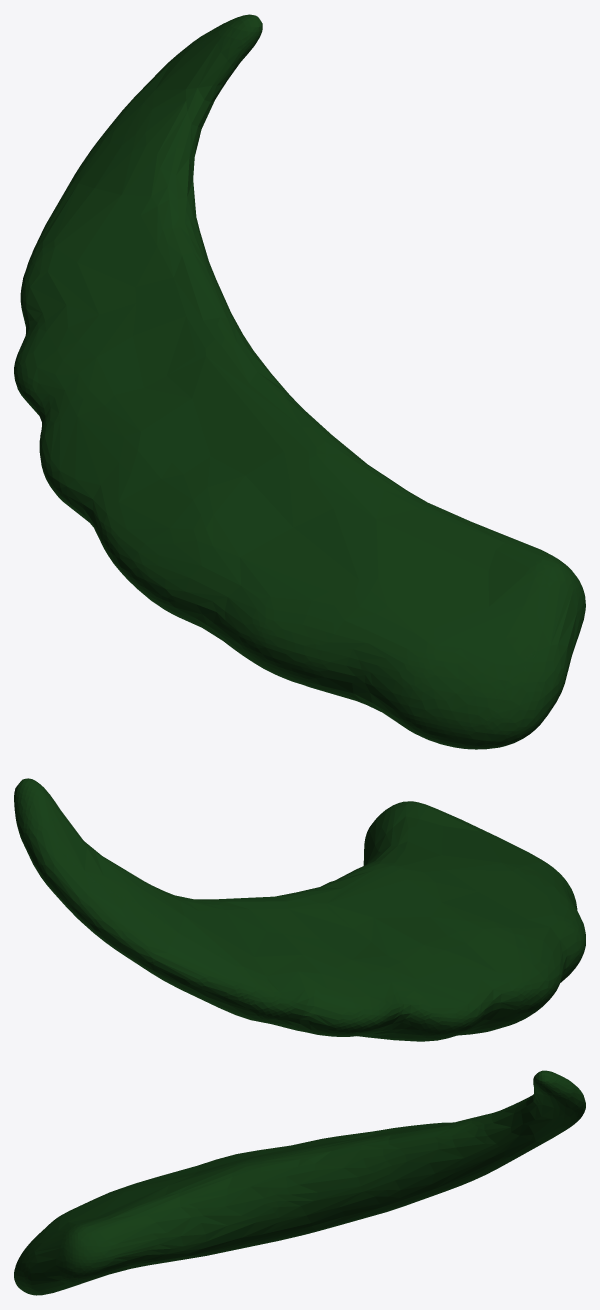
Rendered from Left_hippocampus1.obj.
3 renders of one model, top to bottom at view 1: azimuth 30°, elevation 25°; view 2: azimuth 150°, elevation 25°; view 3: azimuth 270°, elevation 25°, orthographic. The views are drawn at different scales.
Parts seen in each view (by area): view 1: obj0; view 2: obj0; view 3: obj0.
Boxes of the visible parts, box(x1,y1,x2,y2) form: obj0: box(14, 14, 585, 749); obj0: box(14, 778, 585, 1041); obj0: box(14, 1070, 585, 1295).
Size of the model in its own units: 13.74 by 15.09 by 29.41.
Materials: 1 (1 with a texture image).
